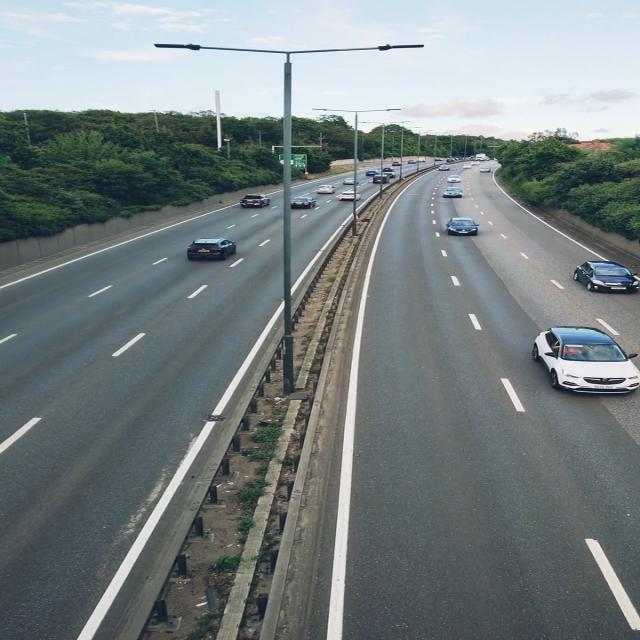Car: (528, 323, 640, 396), (574, 259, 640, 295), (183, 237, 237, 264), (445, 215, 482, 237), (288, 196, 320, 210), (441, 185, 465, 200), (314, 183, 337, 196), (339, 191, 362, 202), (373, 173, 393, 185), (362, 168, 380, 179), (446, 174, 465, 183), (344, 176, 361, 186), (438, 163, 453, 172), (460, 162, 476, 170), (478, 166, 495, 173), (381, 166, 394, 174), (389, 161, 402, 168), (406, 159, 420, 165)
Truck: (236, 192, 274, 211), (472, 152, 489, 162)
